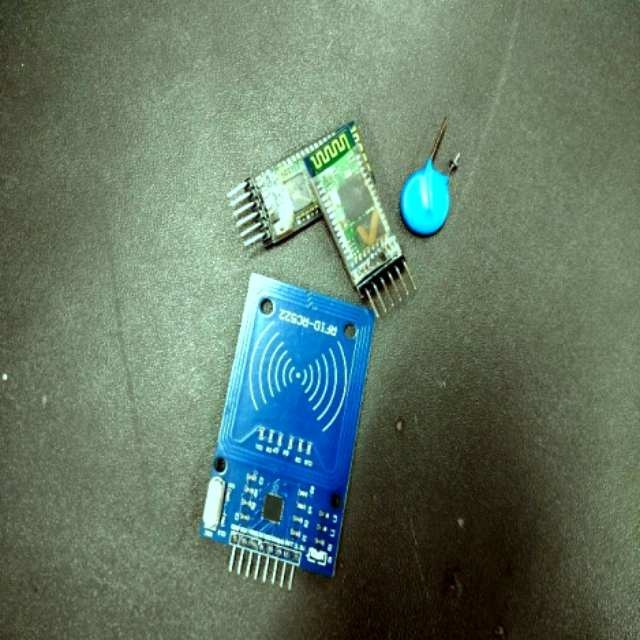capacitor: (401, 166, 450, 234)
